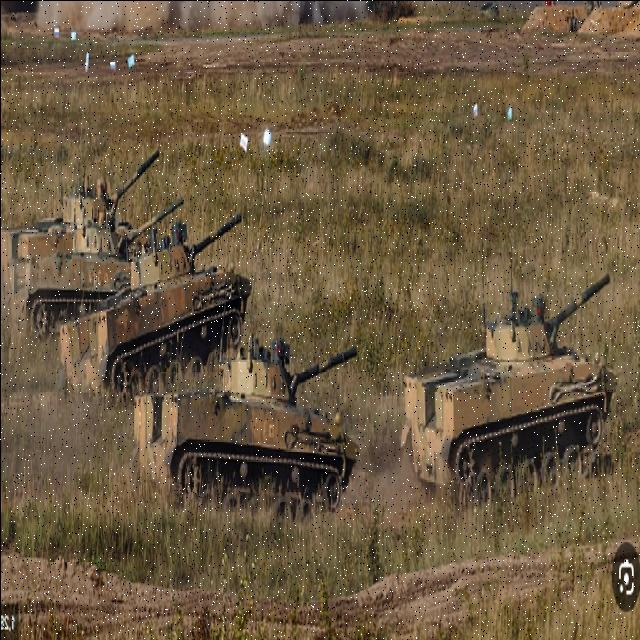APC-IFV: (396, 266, 616, 510), (126, 343, 360, 528), (58, 207, 254, 409), (22, 188, 186, 336), (2, 143, 160, 290)
